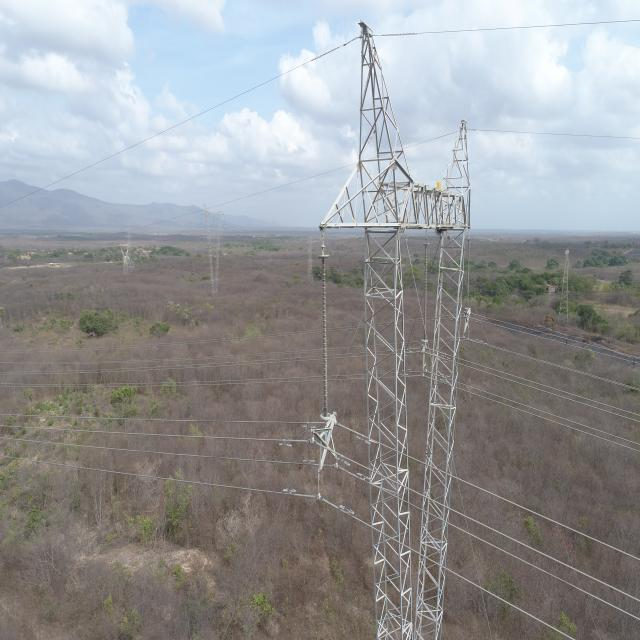杆塔: (325, 22, 472, 640), (192, 192, 231, 301), (555, 245, 573, 333), (118, 225, 136, 278)
正常电缆: (0, 30, 351, 220), (2, 448, 363, 532), (1, 432, 365, 487), (455, 521, 639, 624), (1, 420, 364, 470), (457, 508, 640, 604), (462, 477, 640, 565), (462, 388, 640, 455), (463, 382, 640, 446), (465, 364, 640, 425), (466, 358, 640, 417), (467, 336, 640, 392), (447, 567, 577, 640), (470, 316, 640, 366), (384, 9, 640, 42), (473, 312, 640, 360), (1, 407, 309, 428), (1, 348, 311, 366), (0, 377, 311, 389), (474, 124, 640, 146), (339, 420, 363, 442)
正常绝缘子: (317, 252, 332, 423), (420, 242, 430, 345)
